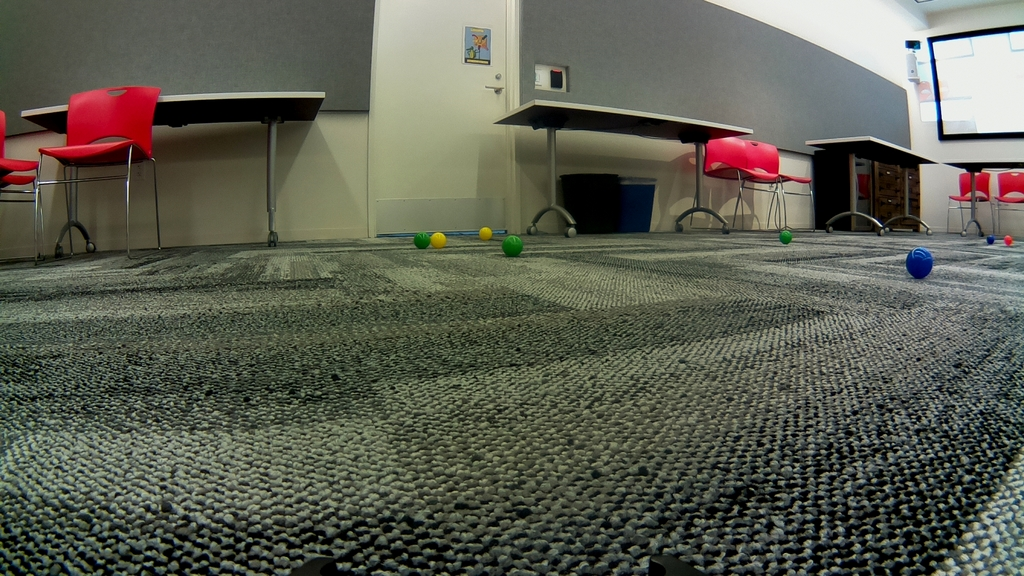ball: (1002, 234, 1014, 246)
